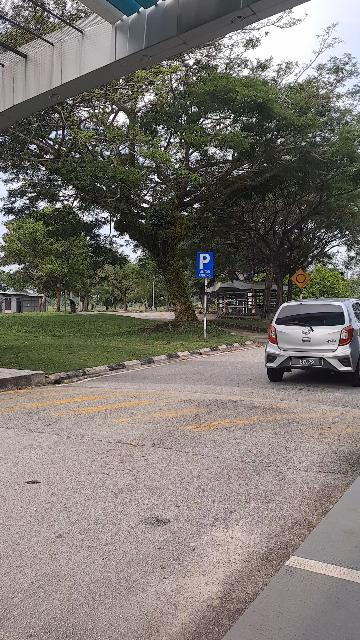License_Plate: (289, 356, 326, 368)
car: (266, 297, 360, 387)
